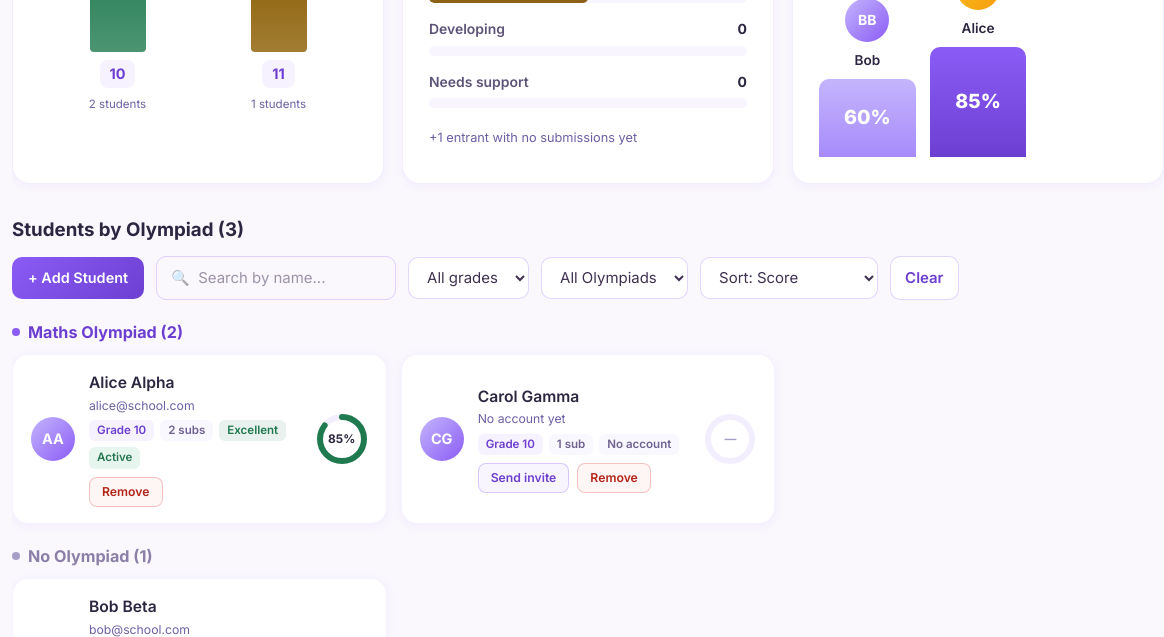
Test: School Dashboard Page › clears filters when clear button is clicked (after confirm)
The width and height of the screenshot is (1164, 637).
(page scrolled)
expect the text "Alice Alpha" is shown: met, box [89,373,175,392]
# Set a filter first
Type "bob" into the field with placeholder "🔍 Search by name...".
click(276, 278); type("bob")  # box [156,256,396,300]
(page scrolled)
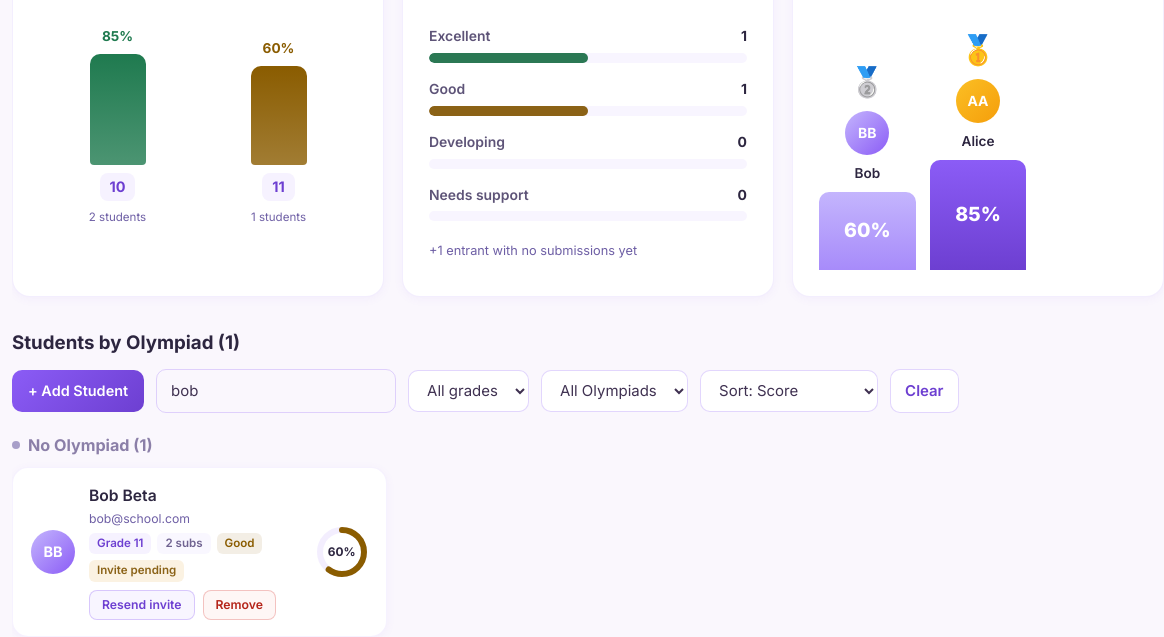
expect the text "Alice Alpha" is gone: met
# Clear filters
Click the button "Clear".
click(924, 391)  # box [890,369,959,413]
(page scrolled)
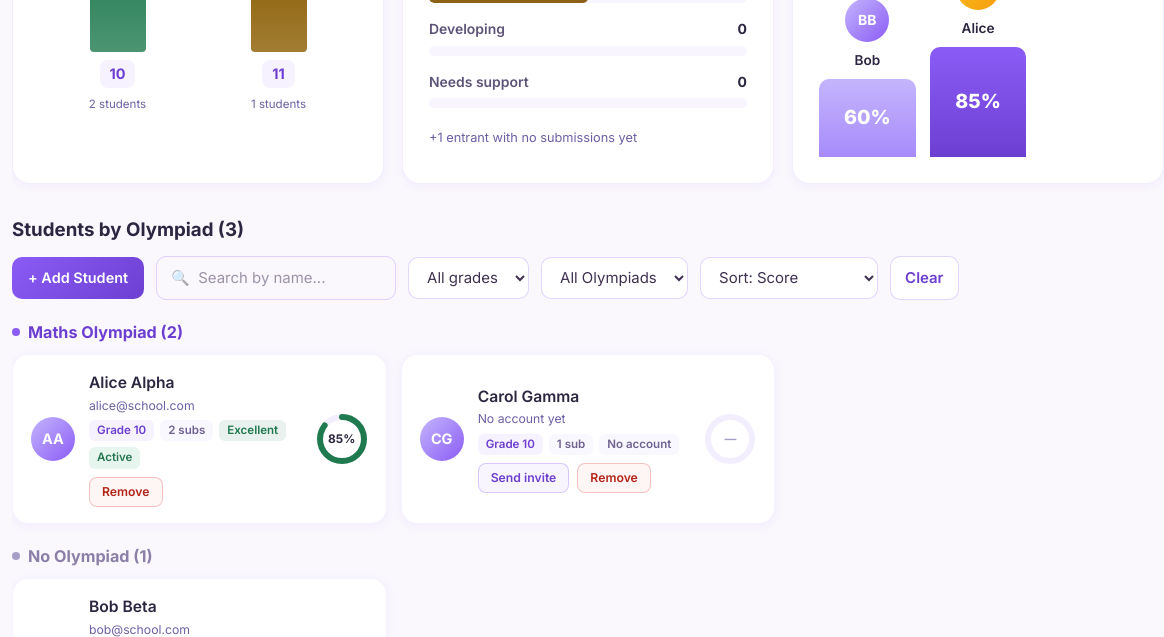
expect the text "Alice Alpha" is shown: met, box [89,373,175,392]
